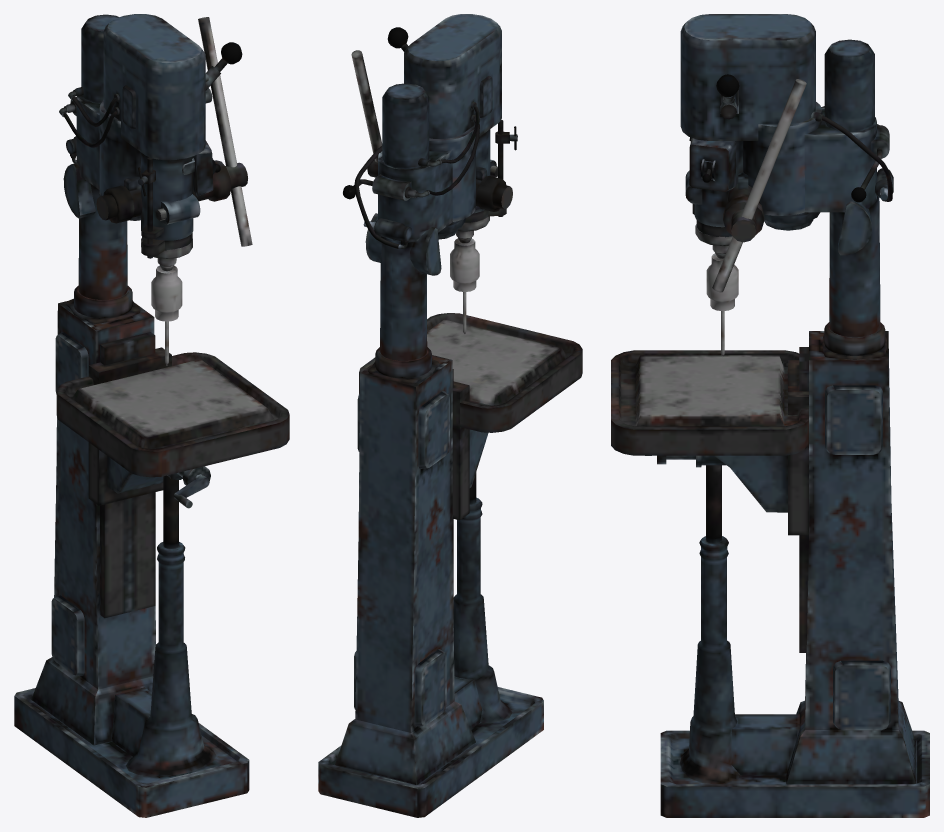
The model's file is sm22_041_drillpress01a.fbx.
3 renders of one model, left to right at view 1: azimuth 30°, elevation 25°; view 2: azimuth 150°, elevation 25°; view 3: azimuth 270°, elevation 25°, orthographic. The views are drawn at different scales.
Parts seen in each view (by area): view 1: LOD_1_Group_0_Sub_1__sm22_041_DrillPress01A_A_Mat; view 2: LOD_1_Group_0_Sub_1__sm22_041_DrillPress01A_A_Mat; view 3: LOD_1_Group_0_Sub_1__sm22_041_DrillPress01A_A_Mat.
Boxes of the visible parts, x1=… form: LOD_1_Group_0_Sub_1__sm22_041_DrillPress01A_A_Mat: x1=14, y1=14, x2=289, y2=817; LOD_1_Group_0_Sub_1__sm22_041_DrillPress01A_A_Mat: x1=318, y1=14, x2=582, y2=817; LOD_1_Group_0_Sub_1__sm22_041_DrillPress01A_A_Mat: x1=611, y1=14, x2=929, y2=817.
Size of the model in its own units: 0.4591 by 1.97 by 0.7468.
